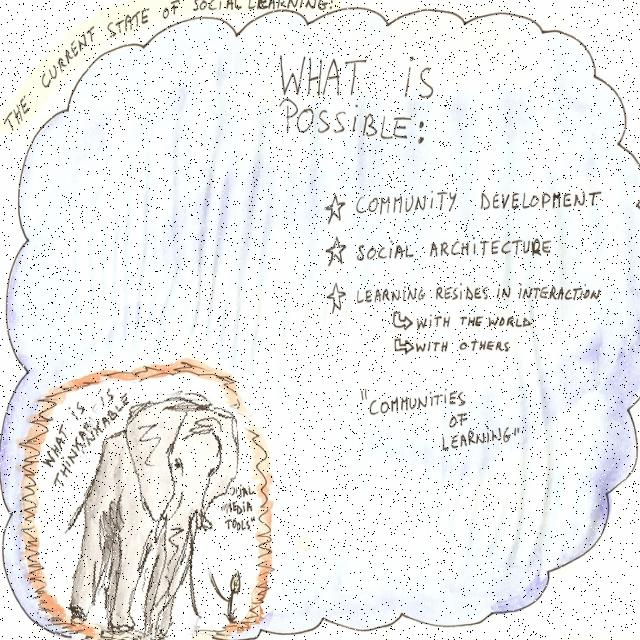elephant: (51, 382, 237, 640)
